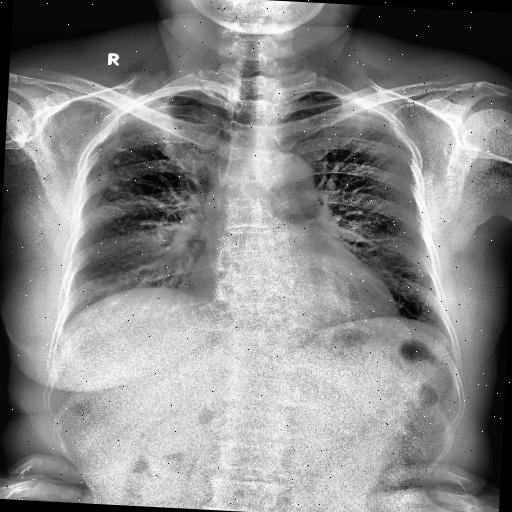0- Aortic enlargement: (252, 151, 318, 217), (275, 150, 319, 207), (267, 149, 314, 202)
11- Pleural thickening: (88, 128, 112, 150)
13- Pulmonary fibrosis: (107, 146, 126, 194), (108, 158, 120, 167), (108, 185, 121, 193), (115, 147, 128, 153)
3- Cardiomegaly: (190, 248, 400, 322), (190, 260, 404, 318)
